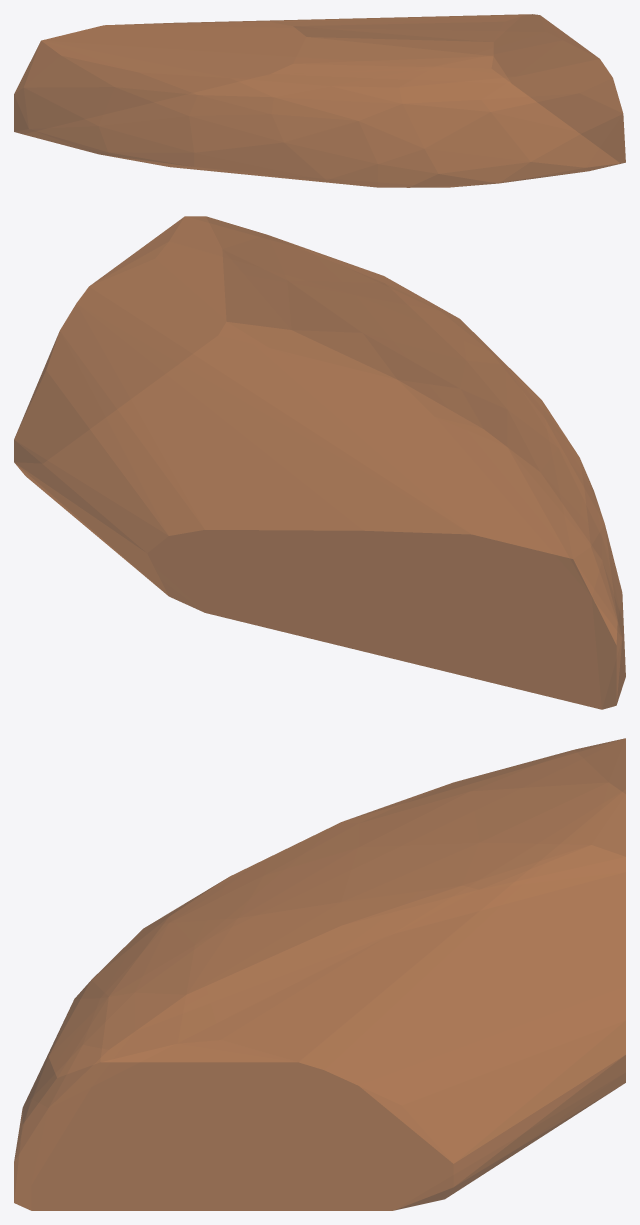
3 renders of one model, top to bottom at view 1: azimuth 30°, elevation 25°; view 2: azimuth 150°, elevation 25°; view 3: azimuth 270°, elevation 25°, orthographic. The views are drawn at different scales.
Parts seen in each view (by area): view 1: Shape_IndexedFaceSet.005_Shape_IndexedFaceSet.16889; view 2: Shape_IndexedFaceSet.005_Shape_IndexedFaceSet.16889; view 3: Shape_IndexedFaceSet.005_Shape_IndexedFaceSet.16889.
Boxes of the visible parts, box(x1,y1,x2,y2) form: Shape_IndexedFaceSet.005_Shape_IndexedFaceSet.16889: box(14, 14, 625, 187); Shape_IndexedFaceSet.005_Shape_IndexedFaceSet.16889: box(14, 216, 625, 709); Shape_IndexedFaceSet.005_Shape_IndexedFaceSet.16889: box(14, 738, 625, 1210).
Bounding box in the file's own units: 0.2556 × 0.0538 × 0.191.
